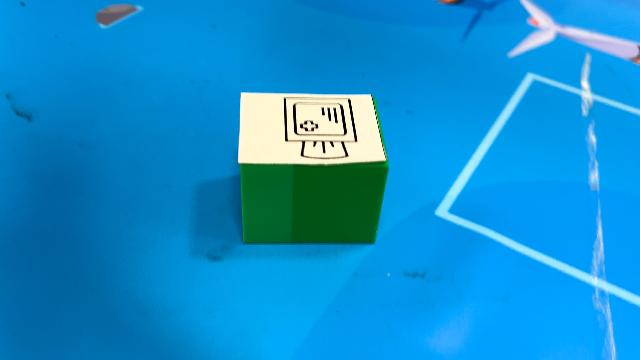napkin: (236, 90, 390, 246)
